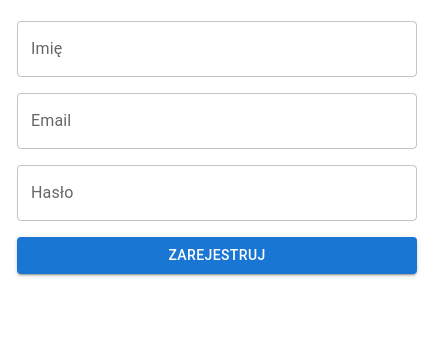
Test: RegisterForm › should display validation errors when form is submitted with empty fields
The width and height of the screenshot is (435, 362).
Step 1. Click the button "Zarejestruj" → (217, 255), box [17,237,417,274]
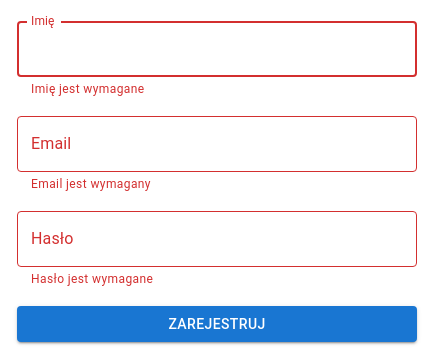
expect the text "Imię jest wymagane" is shown: met, box [31,82,145,96]
expect the text "Email jest wymagany" is shown: met, box [31,177,151,191]
expect the text "Hasło jest wymagane" is shown: met, box [31,272,153,286]
